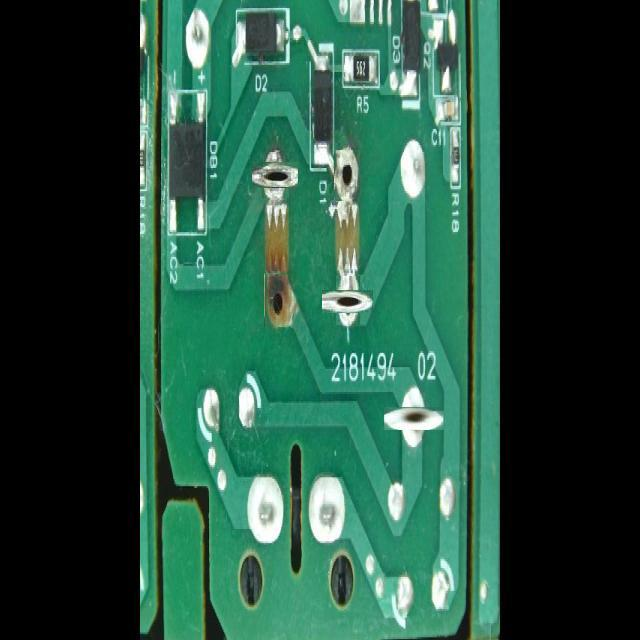damged: (394, 397, 436, 439), (329, 283, 367, 320), (264, 273, 289, 327), (257, 157, 294, 193), (334, 150, 360, 201)
